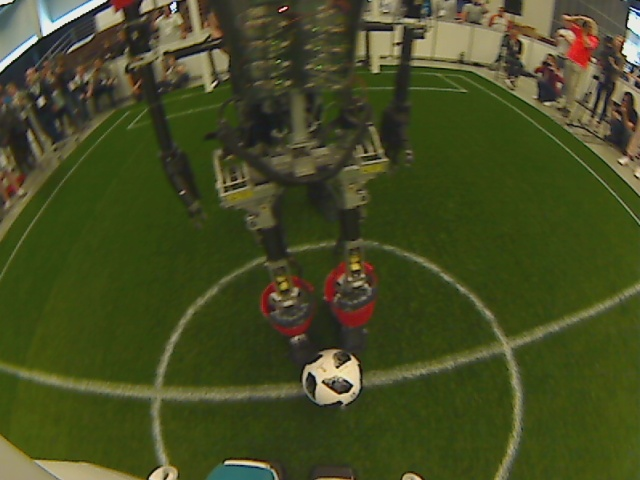ball: (298, 349, 365, 407)
goalpost: (199, 79, 217, 97), (368, 63, 384, 80)
robot: (285, 308, 380, 365)
